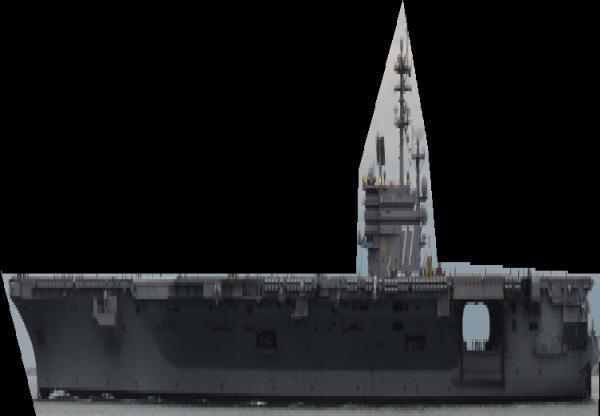Aircraft Carrier: (1, 0, 600, 416)
